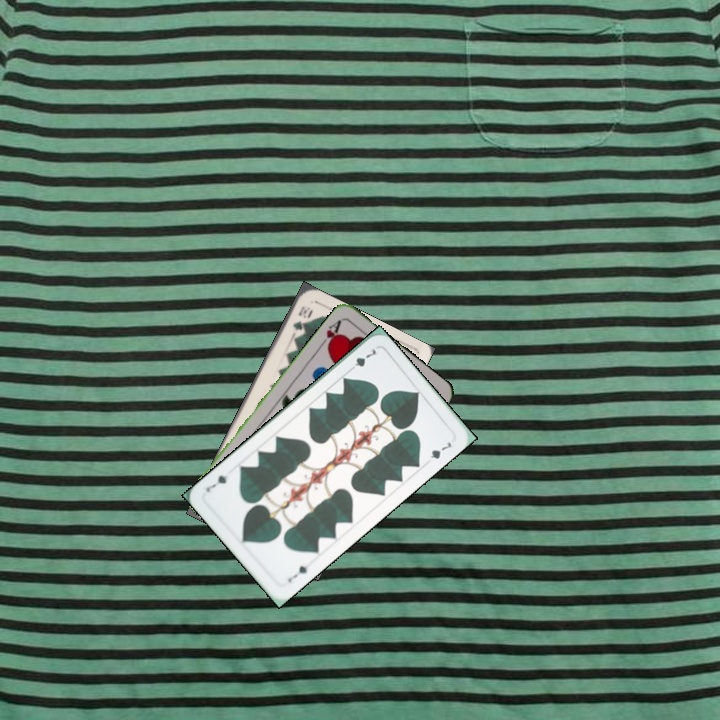G10: (288, 302, 314, 333)
G7: (344, 344, 379, 375), (284, 561, 310, 585)
HA: (315, 315, 344, 352)
